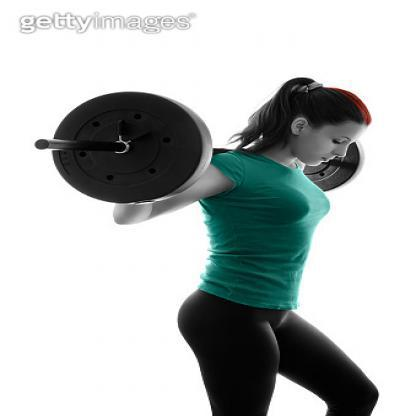Barbell: (47, 88, 220, 209)
